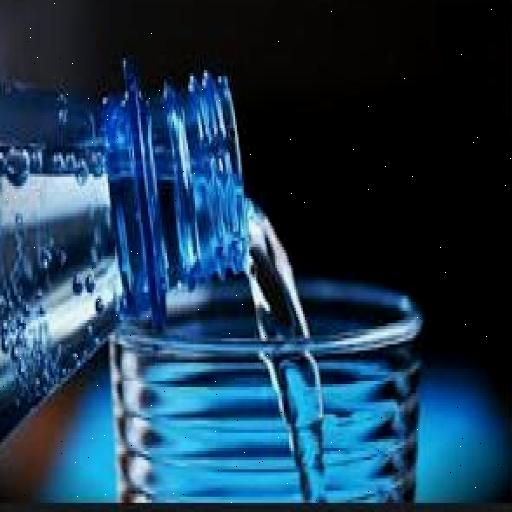bottle: (0, 12, 254, 341)
